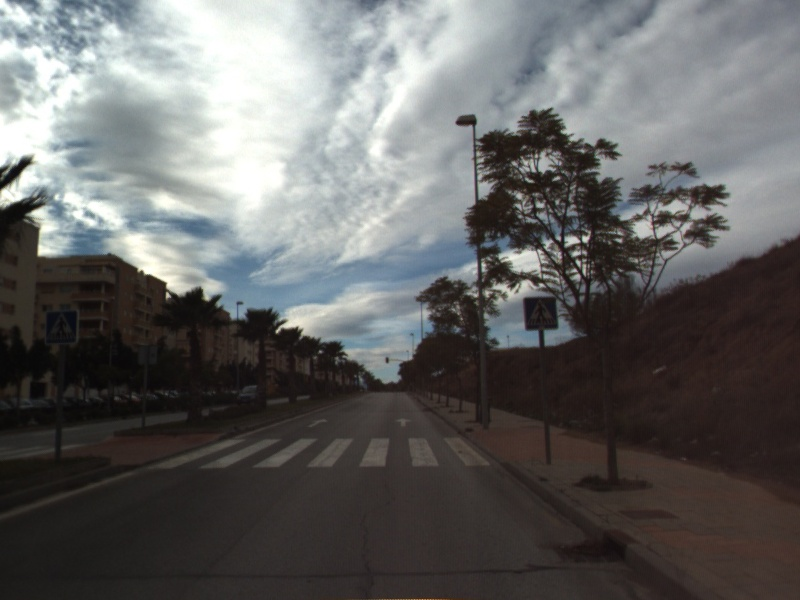STRAIGHT: (306, 416, 330, 429), (393, 415, 414, 428)
